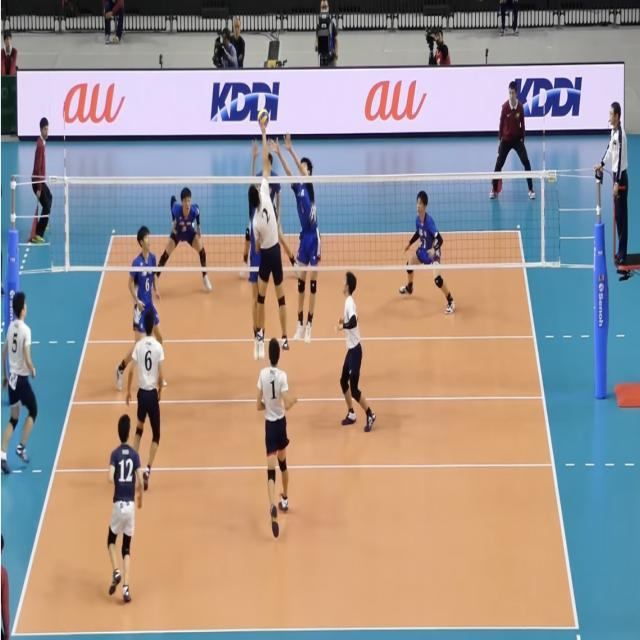spike: (242, 102, 294, 362)
